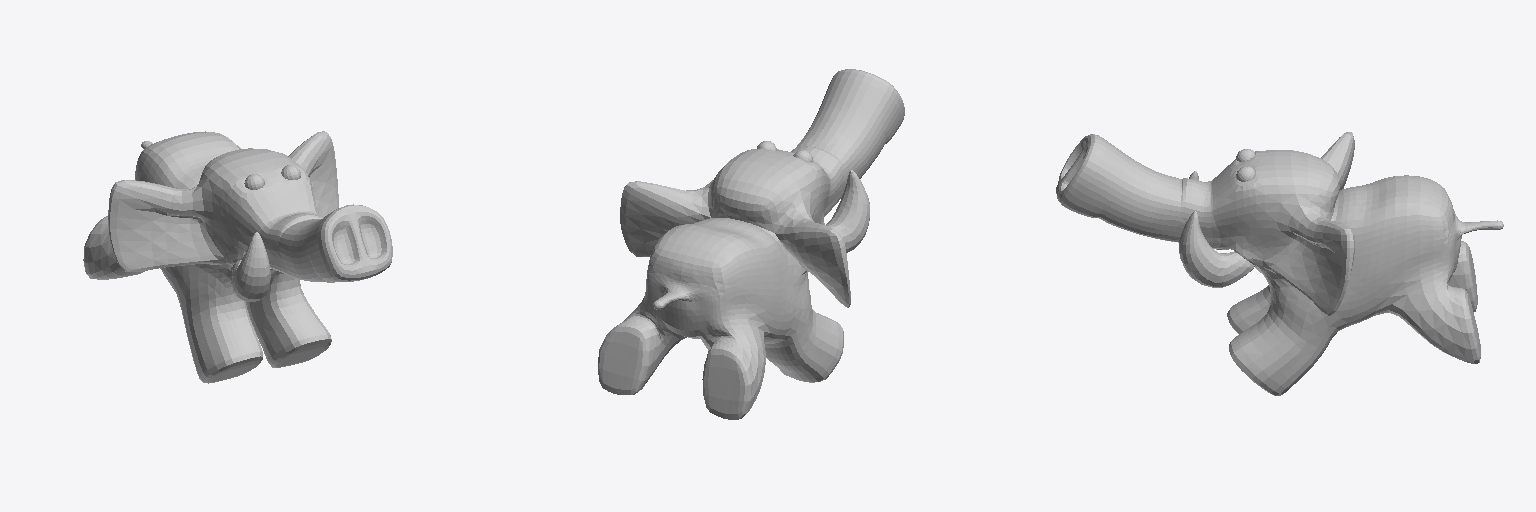
File: justElephant.obj
The picture shows the model from 3 angles: view 1: azimuth 30°, elevation 25°; view 2: azimuth 150°, elevation 25°; view 3: azimuth 270°, elevation 25°; orthographic projection.
Parts seen in each view (by area): view 1: polySurface1; view 2: polySurface1; view 3: polySurface1.
Part boxes in pixels (bbox=[...]): polySurface1: bbox=[83, 131, 392, 383]; polySurface1: bbox=[598, 69, 904, 419]; polySurface1: bbox=[1056, 132, 1503, 395].
Size of the model in its own units: 4.84 by 4.77 by 8.24.